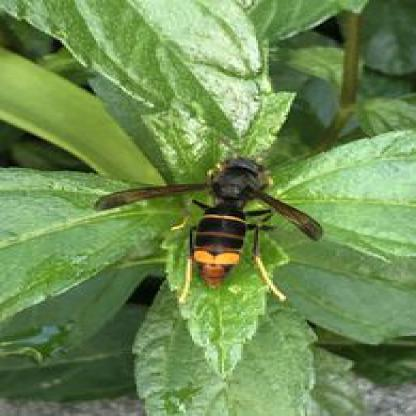Asian Hornet: (97, 150, 334, 304)
